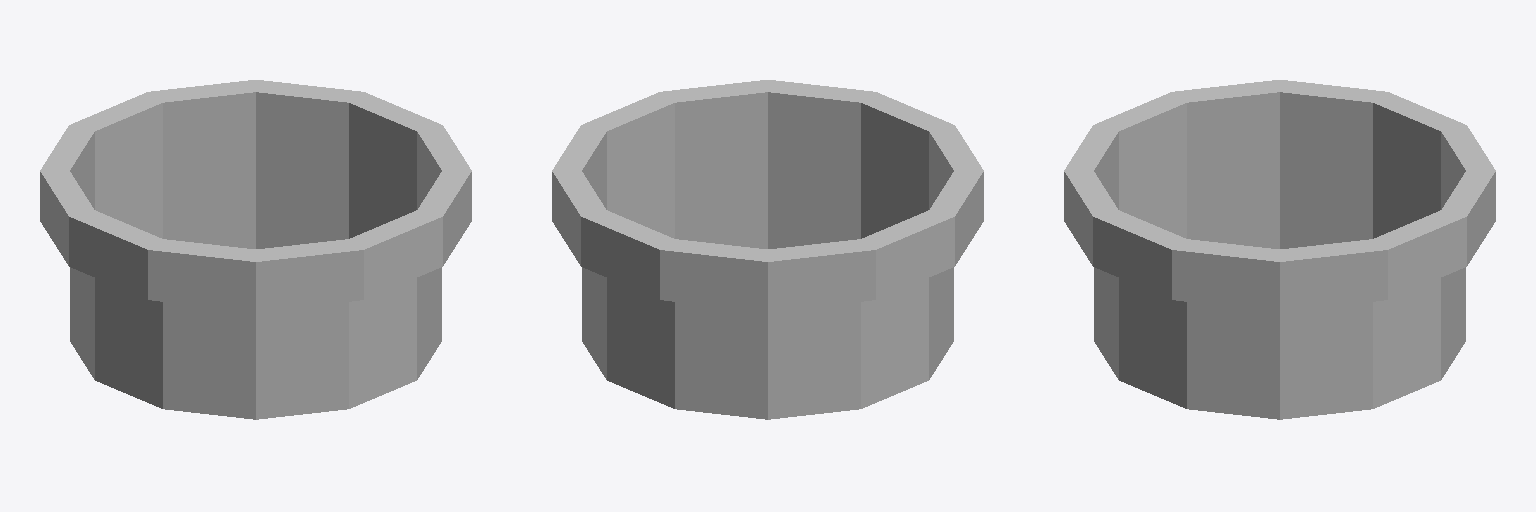
The model's file is pit.obj.
3 renders of one model, left to right at view 1: azimuth 30°, elevation 25°; view 2: azimuth 150°, elevation 25°; view 3: azimuth 270°, elevation 25°, orthographic.
Parts seen in each view (by area): view 1: Cut_Cylinder; view 2: Cut_Cylinder; view 3: Cut_Cylinder.
Boxes of the visible parts, box(x1,y1,x2,y2) form: Cut_Cylinder: box(40, 80, 471, 419); Cut_Cylinder: box(552, 80, 983, 419); Cut_Cylinder: box(1064, 80, 1495, 419).
Size of the model in its own units: 60 by 26.1 by 60.